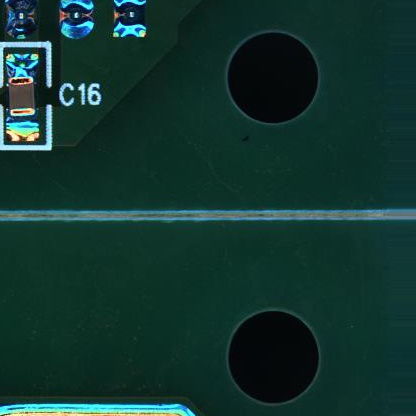spot: (60, 1, 98, 41), (111, 1, 148, 40), (5, 1, 37, 40)
